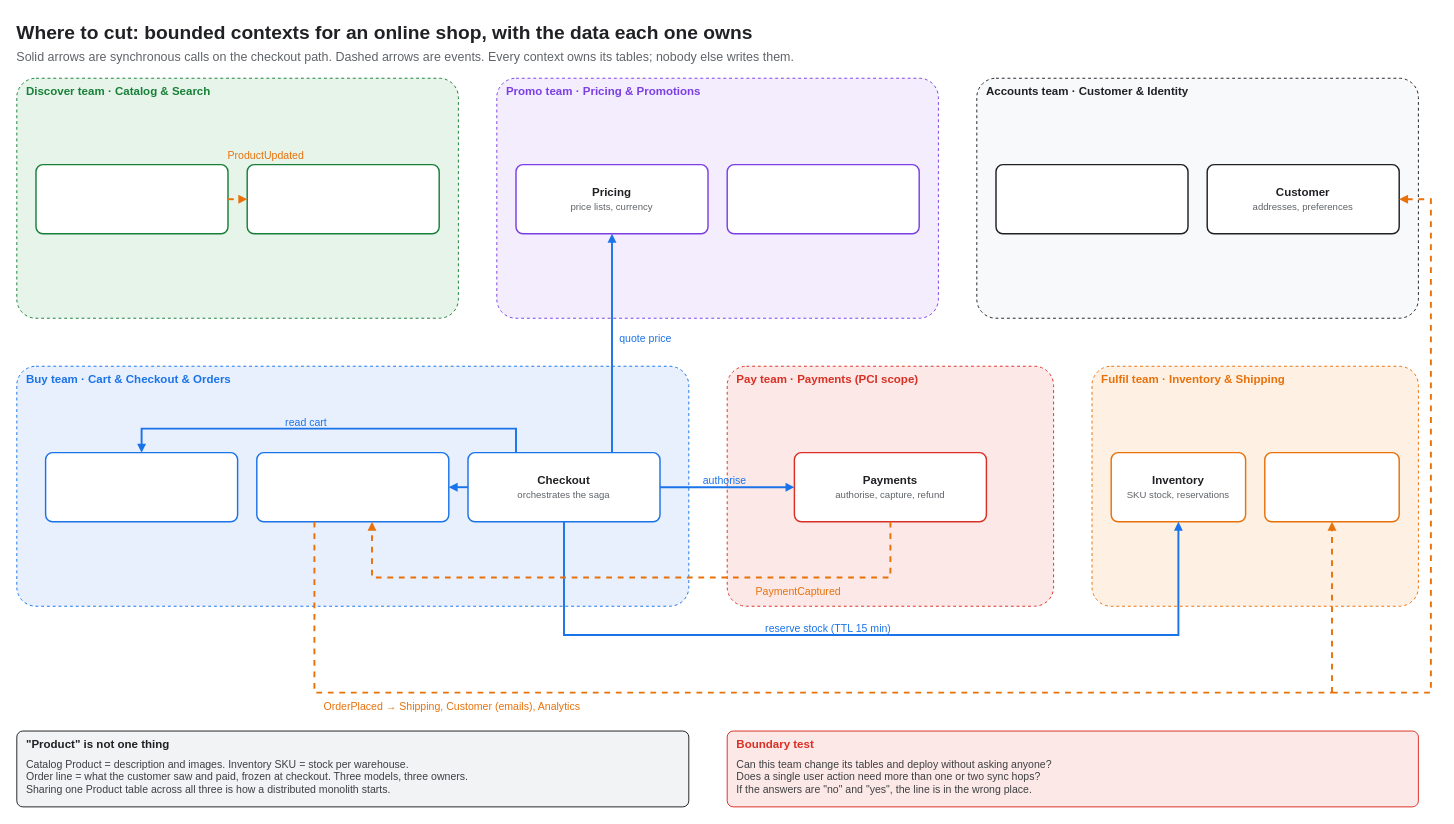
Image size: 1454x824. Some labels were removed from this diagram. Here are the shapes that lost their labels. From the top down, the centre of each, then its label:
(x=131, y=198): Catalog Product: title, images, attributes
(x=342, y=198): Search index rebuilt from events
(x=822, y=198): Promotions coupons, rules, budgets
(x=1091, y=198): Identity login, tokens, MFA
(x=141, y=486): Cart lines, expiring in 30 days
(x=352, y=486): Orders OrderLine with price snapshot
(x=1331, y=486): Shipping labels, carriers, tracking
